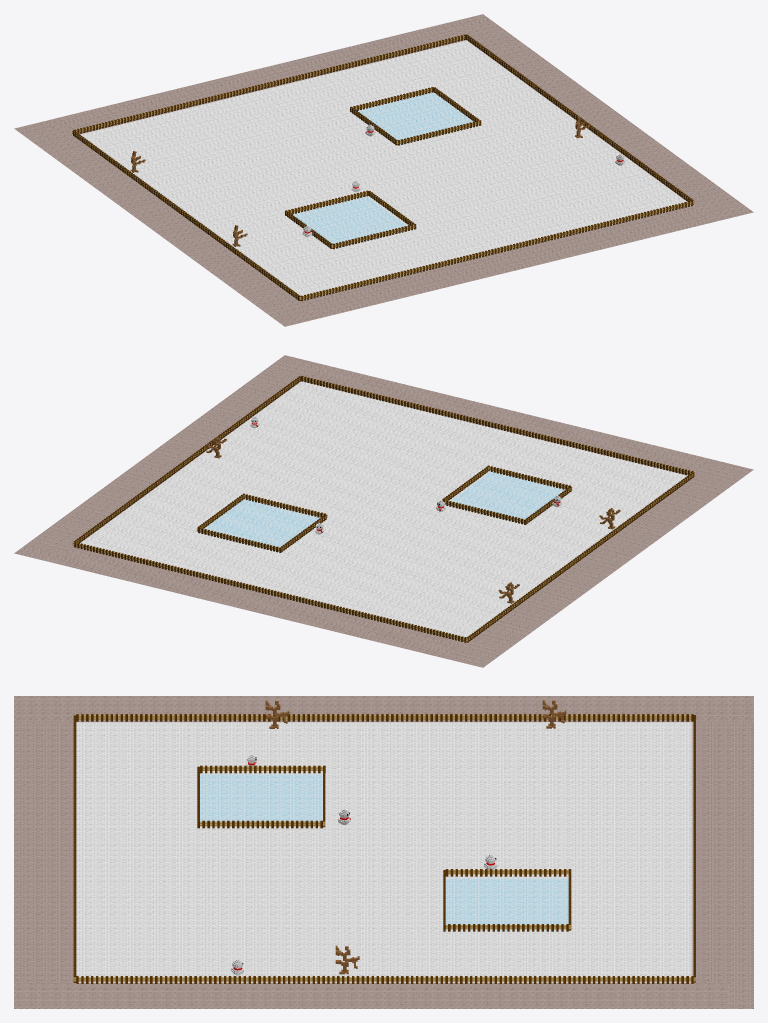
The model's file is Map5.fbx.
3 views of the same model, one above another, from view 1: azimuth 30°, elevation 25°; view 2: azimuth 150°, elevation 25°; view 3: azimuth 270°, elevation 25° (orthographic). The views are drawn at different scales.
Parts seen in each view (by area): view 1: pPlane1, fence80, fence93, fence94; view 2: pPlane1, fence80, fence93, fence94; view 3: pPlane1, fence80, fence94, fence93.
Part boxes in pixels (x1,y1,x2,y2): pPlane1: (14, 14, 753, 326); fence80: (72, 34, 694, 301); fence93: (350, 87, 481, 145); fence94: (285, 190, 416, 249); pPlane1: (14, 355, 753, 667); fence80: (72, 376, 694, 642); fence93: (196, 493, 327, 552); fence94: (442, 465, 572, 524); pPlane1: (14, 696, 753, 1008); fence80: (73, 714, 696, 983); fence94: (197, 765, 325, 828); fence93: (443, 869, 571, 931).
Bounding box in the file's own units: 60 × 2.37 × 60.
